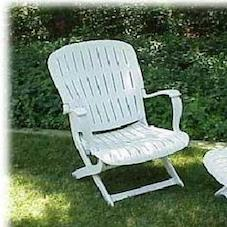chair: (44, 25, 202, 210)
